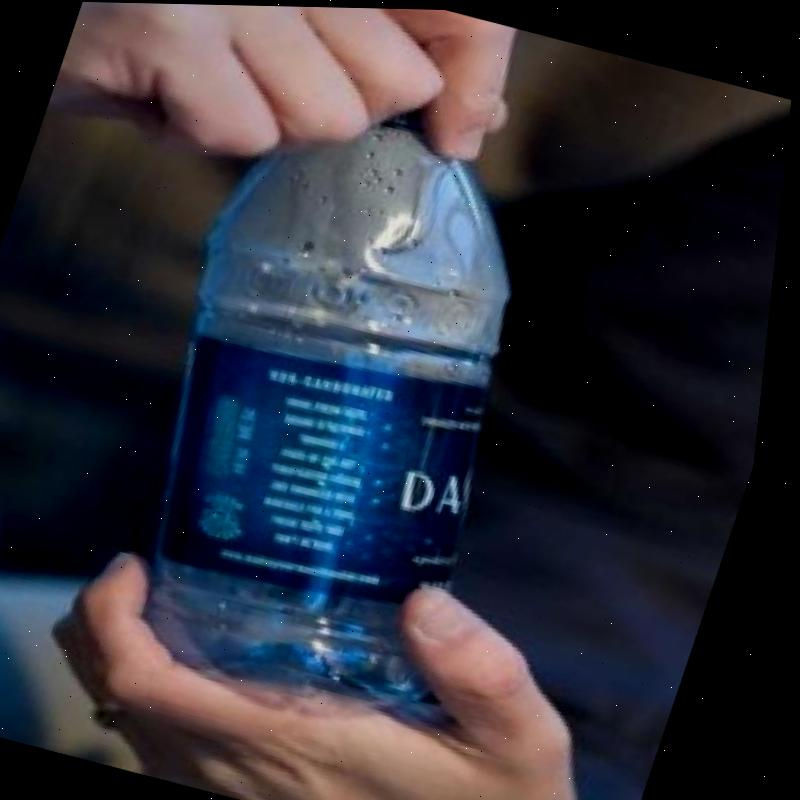botella: (85, 76, 616, 713)
